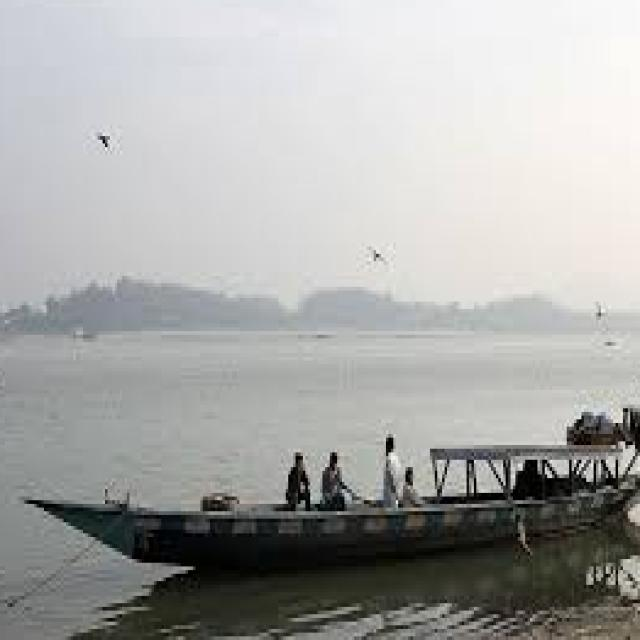fishing boat: (20, 386, 640, 570)
